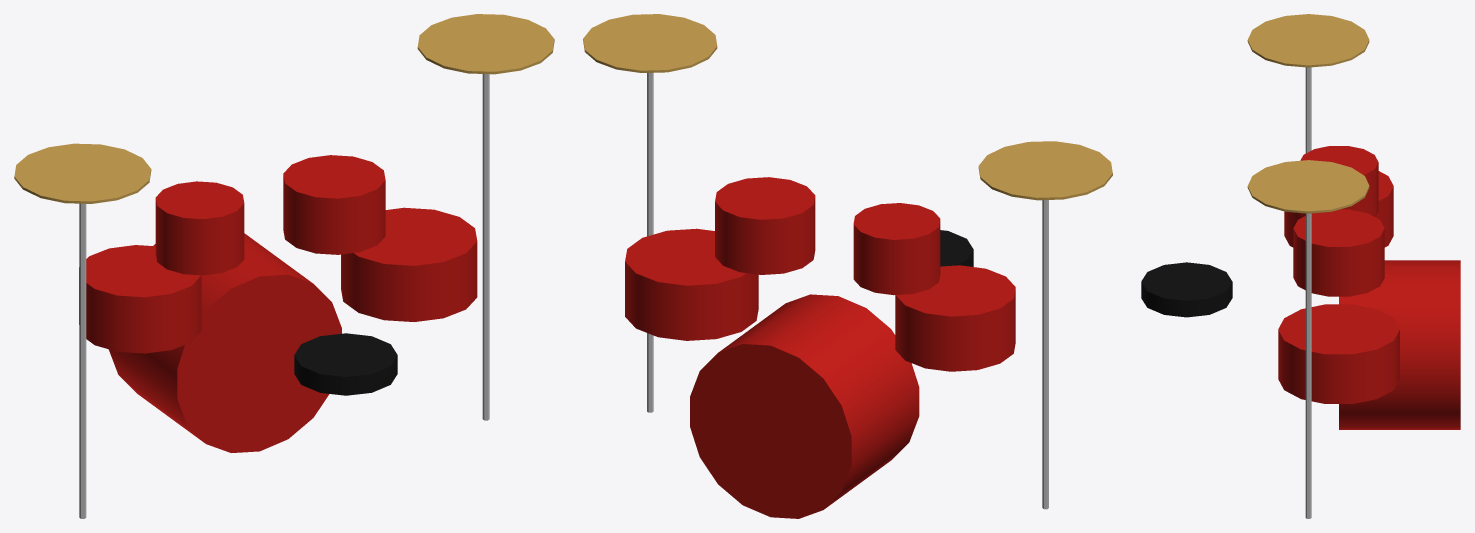
Rendered from school.hall.drum_kit.glb.
3 renders of one model, left to right at view 1: azimuth 30°, elevation 25°; view 2: azimuth 150°, elevation 25°; view 3: azimuth 270°, elevation 25°, orthographic. The views are drawn at different scales.
Visible parts, largest first — view 1: main__plastic_red, main__brass, main__leather_black, main__steel_stainless; view 2: main__plastic_red, main__brass, main__steel_stainless, main__leather_black; view 3: main__plastic_red, main__brass, main__leather_black, main__steel_stainless.
Boxes of the visible parts, left/top/right/bottom form: main__plastic_red: left=79, top=155, right=477, bottom=452; main__brass: left=14, top=14, right=554, bottom=203; main__leather_black: left=294, top=333, right=397, bottom=395; main__steel_stainless: left=79, top=74, right=489, bottom=518; main__plastic_red: left=625, top=177, right=1015, bottom=518; main__brass: left=583, top=14, right=1112, bottom=200; main__steel_stainless: left=647, top=72, right=1048, bottom=509; main__leather_black: left=940, top=230, right=973, bottom=266; main__plastic_red: left=1278, top=146, right=1460, bottom=429; main__brass: left=1247, top=14, right=1369, bottom=213; main__leather_black: left=1141, top=262, right=1232, bottom=317; main__steel_stainless: left=1305, top=67, right=1311, bottom=518.
Size of the model in its own units: 1.75 by 1.2 by 1.05.
